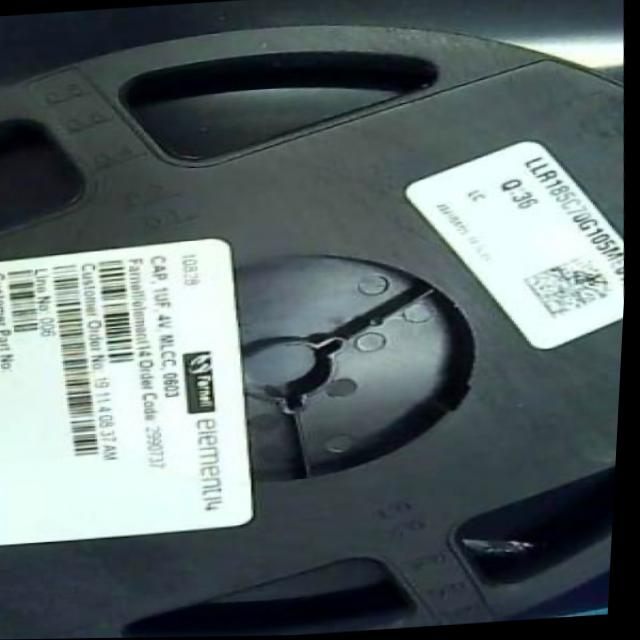datamatrix: (522, 253, 622, 326)
